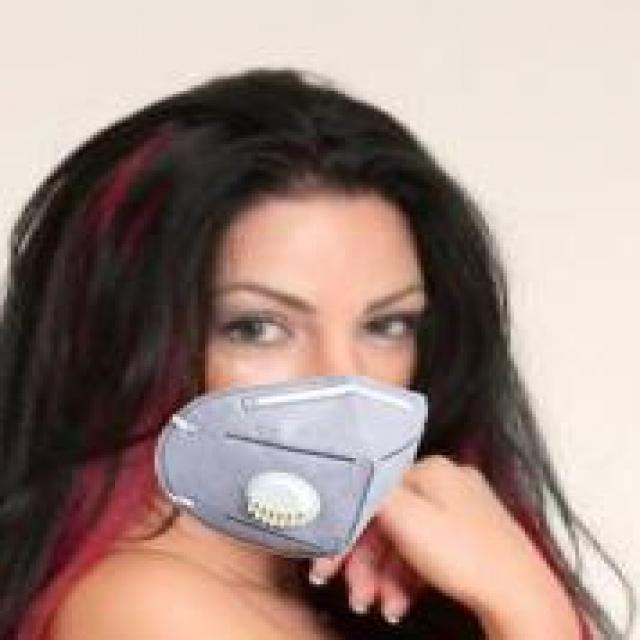mask: (97, 79, 539, 602)
